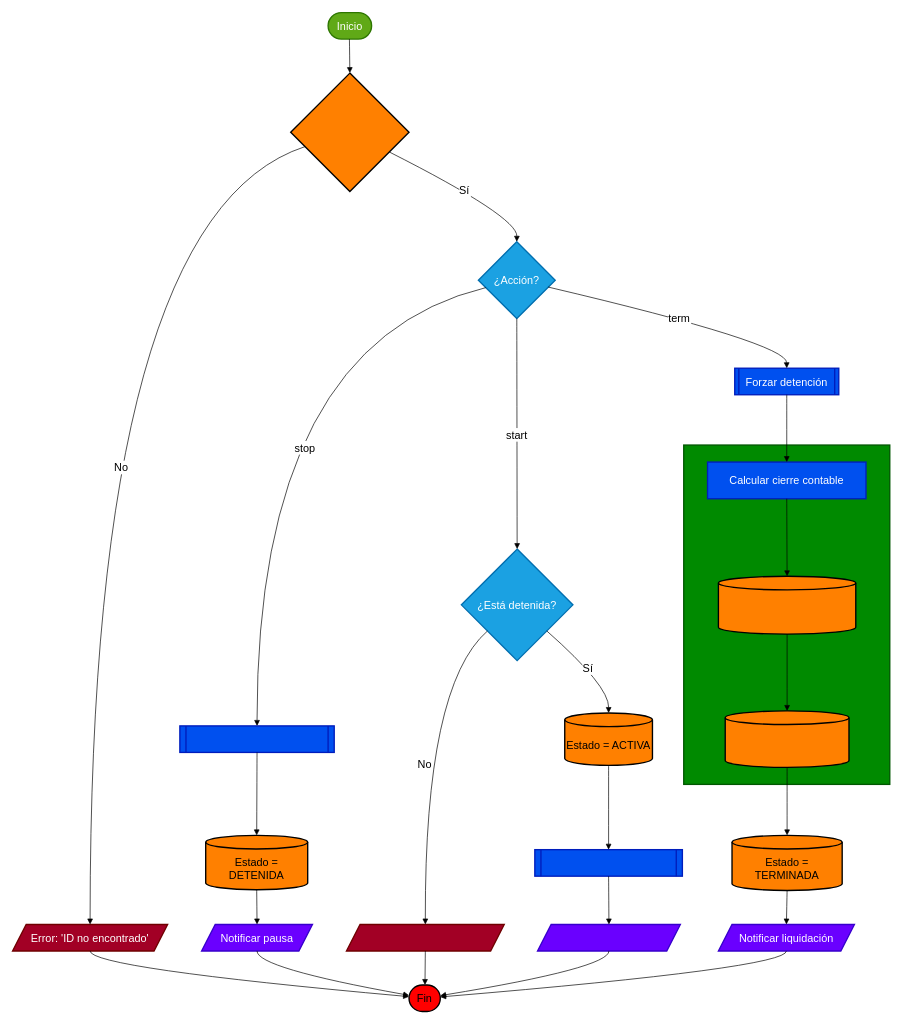
The diagram is 902 pixels wide and 1023 high, and some of its shapes have lost their labels. Each missing label, with the centre of its shape:
"Detener subproceso Python" goes at [257,739].
"Error: 'Estado incorrecto'" goes at [425,937].
"Lanzar subproceso Python" goes at [608,863].
"Liberar fondos a Wallet" goes at [786,739].
"Notificar reanudación" goes at [609,937].
"Registrar cierre en Ledger" goes at [786,604].
"¿Existe ID en BD?" goes at [349,132].
